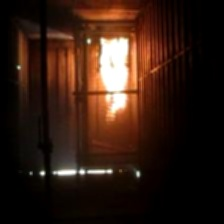fire: (95, 32, 136, 123)
